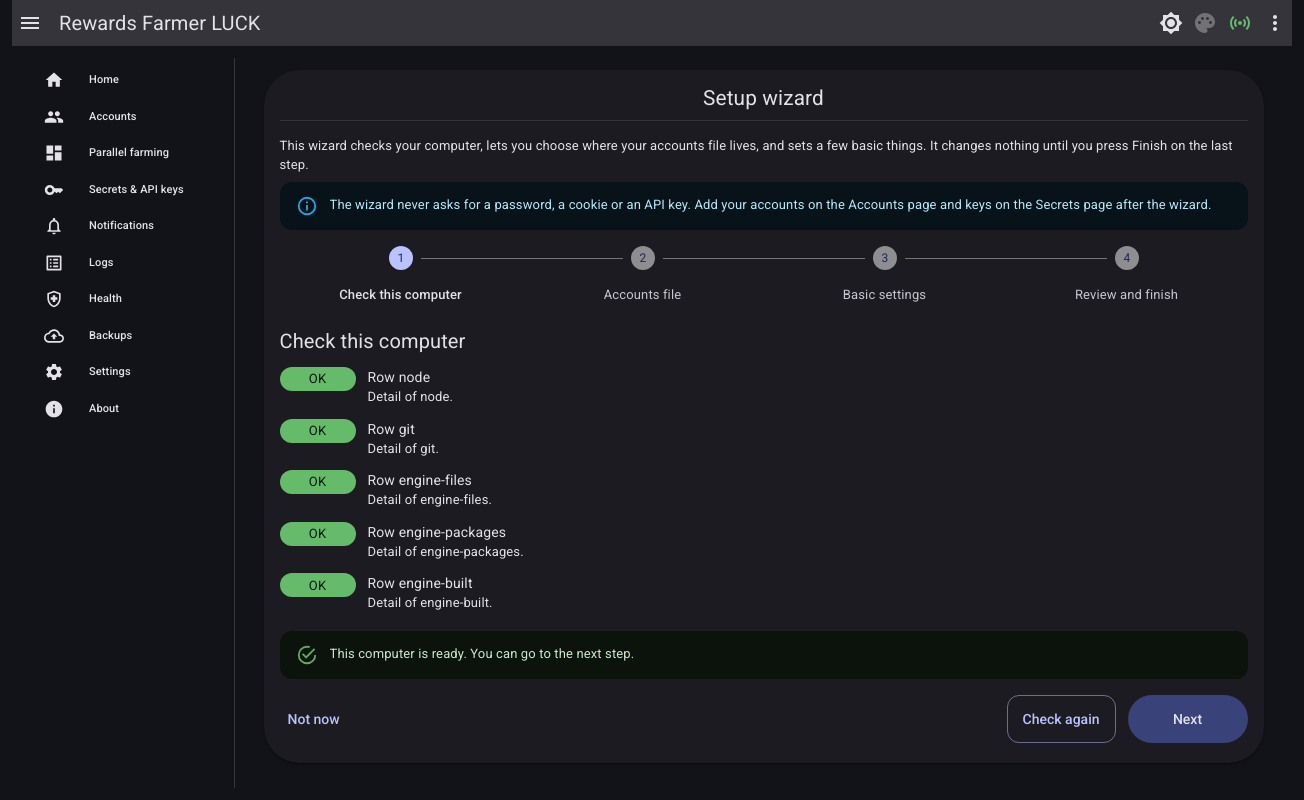
step 1: computer check › "Not now" leaves for Home and writes nothing
Expected: the heading "Check this computer" is shown, 280,329 -> 466,353
What coordinates should you click on to do the following:
click the button "Not now"
I would click on:
 (314, 719)
Its box is 280,695 -> 348,743.
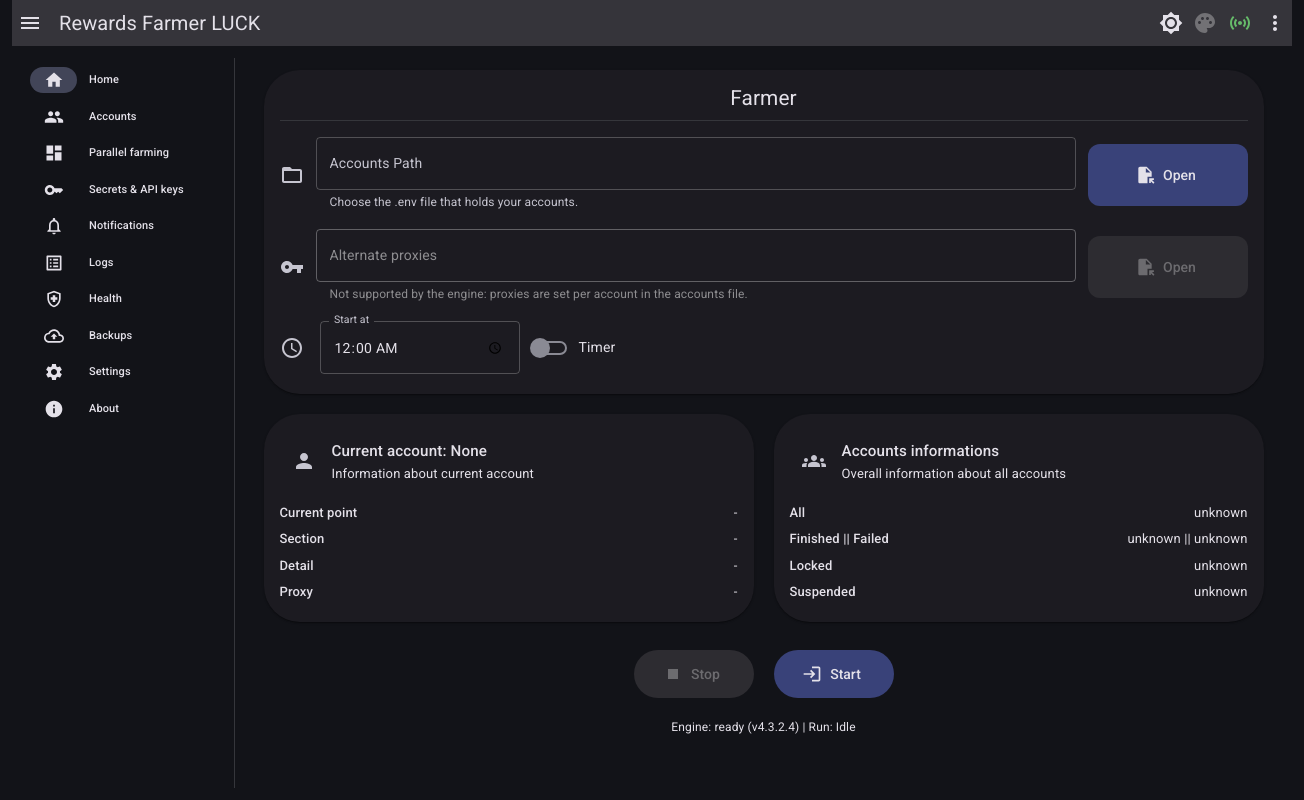
Result: the text "Check this computer" is gone
